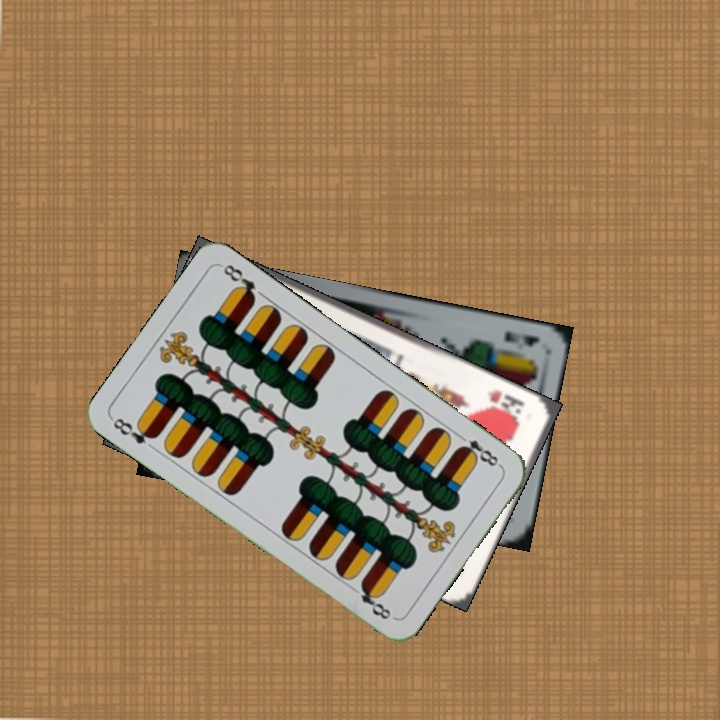E8: (453, 429, 504, 470), (108, 413, 160, 447)
EK: (499, 326, 541, 350)
HK: (483, 386, 527, 421)
